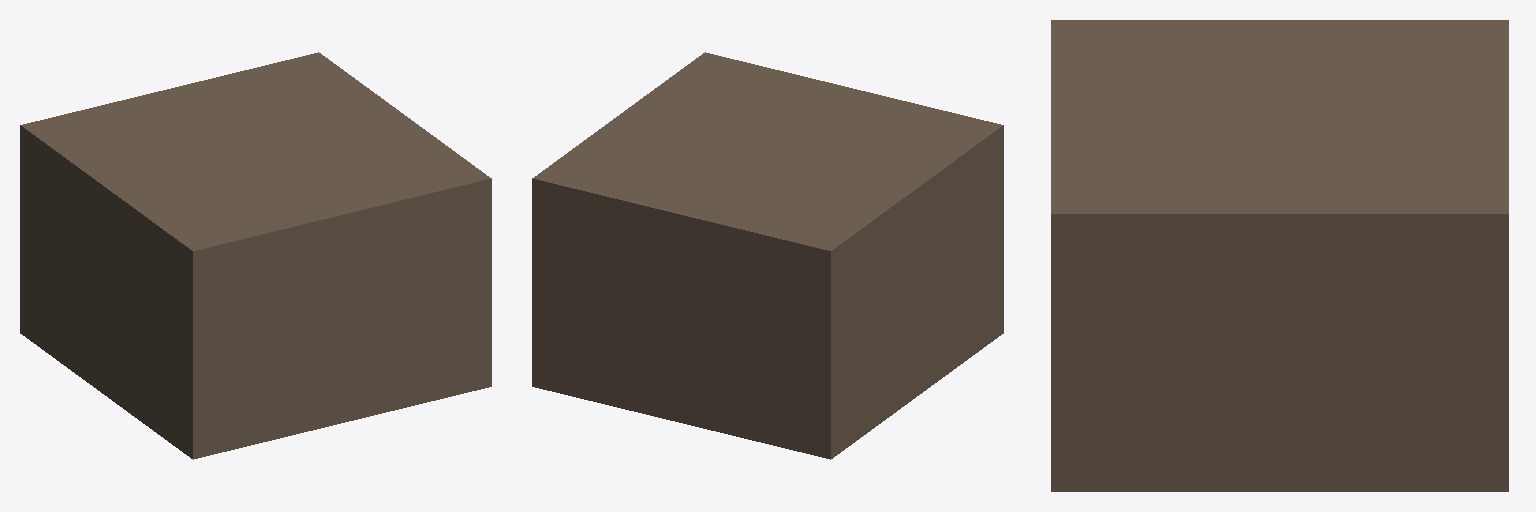
The robot description file, URDF, robot "box":
<?xml version="1.0"?>

<robot name="box">

  <link name="box_link">
    <visual>
      <origin xyz="0 0 0" />
      <geometry>
        <box size="0.15 0.15 0.1" />
        <!-- <cylinder radius="0.075" length="0.1" /> -->
        <!-- <sphere radius="0.075" /> -->
      </geometry>
      <material name='light_brown'>
        <color rgba="0.48 0.42 0.36 1" />
      </material>
    </visual>

    <collision>
      <origin xyz="0 0 0" />
      <geometry>
        <box size="0.15 0.15 0.1" />
        <!-- <cylinder radius="0.075" length="0.1" /> -->
        <!-- <sphere radius="0.075" /> -->
      </geometry>
    </collision>
  </link>

</robot>

--- Facts derived from the render (not from the file) ---
Views: 3 orthographic renders of the robot side by side, from view 1: azimuth 30°, elevation 25°; view 2: azimuth 150°, elevation 25°; view 3: azimuth 270°, elevation 25°.
Robot: box — 1 links, 0 joints (none); root link box_link; default pose: all joints at 0.
Links seen in each view (by area): view 1: box_link; view 2: box_link; view 3: box_link.
Link boxes in pixels (box(x1,y1,x2,y2)): box_link: box(20, 52, 491, 459); box_link: box(532, 52, 1003, 459); box_link: box(1051, 20, 1508, 491).
Bounding box of the posed robot: 0.15 × 0.15 × 0.1 m (x, y, z).
Geometry: primitives only (box / cylinder / sphere), no mesh files.